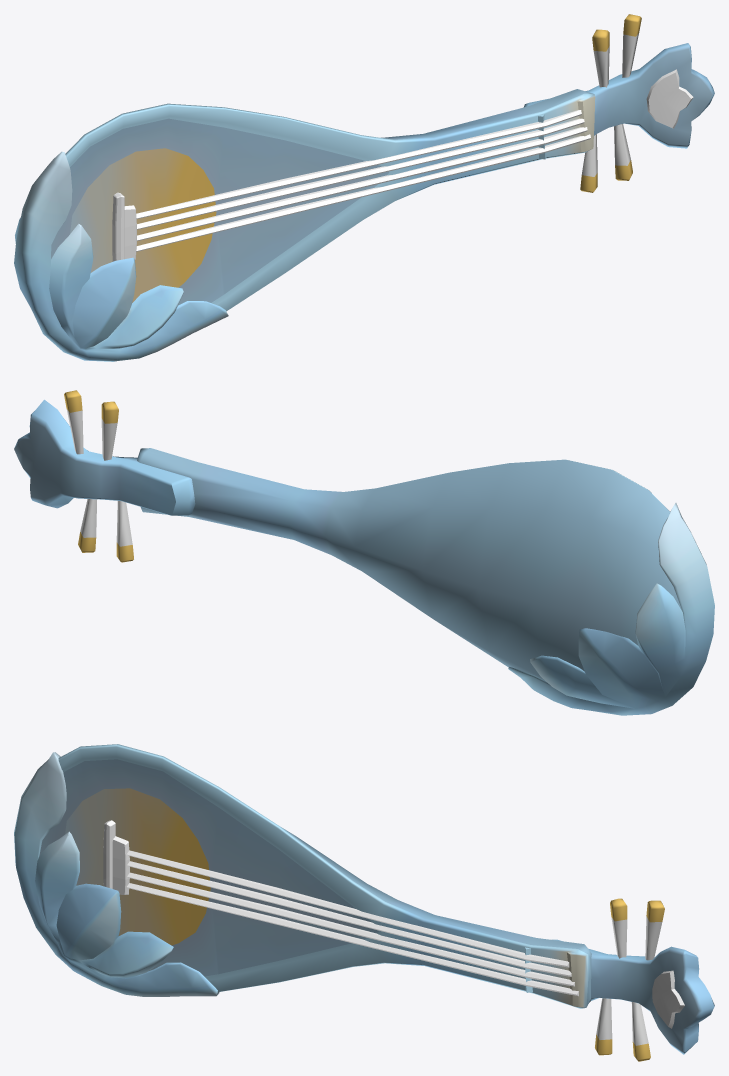
Rendered from CharSkyKid_Prop_MoonlightLute.glb.
The picture shows the model from 3 angles, top to bottom: view 1: azimuth 30°, elevation 25°; view 2: azimuth 150°, elevation 25°; view 3: azimuth 330°, elevation 25°; orthographic projection.
Parts seen in each view (by area): view 1: CharSkyKid_Prop_MoonlightLute; view 2: CharSkyKid_Prop_MoonlightLute; view 3: CharSkyKid_Prop_MoonlightLute.
Boxes of the visible parts, box(x1,y1,x2,y2) form: CharSkyKid_Prop_MoonlightLute: box(14, 14, 714, 361); CharSkyKid_Prop_MoonlightLute: box(14, 390, 714, 715); CharSkyKid_Prop_MoonlightLute: box(14, 744, 714, 1061).
Bounding box in the file's own units: 8.55 × 2.88 × 0.9689.
1 material, 1 textured.
